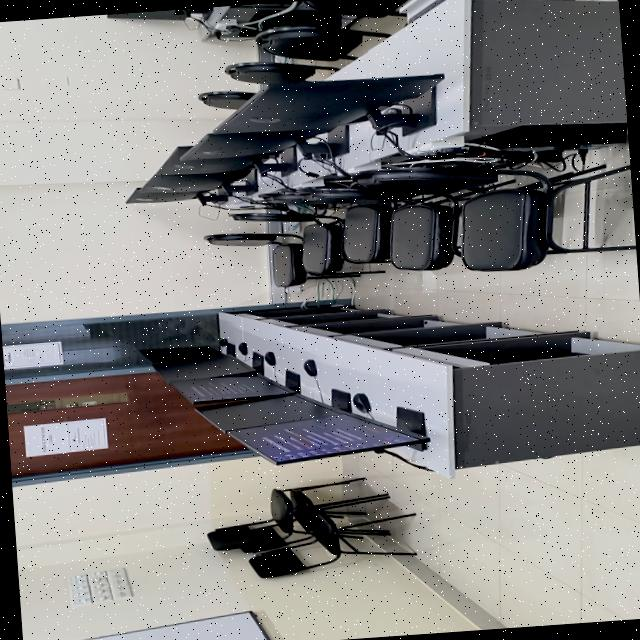Chair: (349, 164, 636, 271), (261, 187, 455, 271), (247, 493, 415, 578), (206, 479, 360, 553), (203, 233, 361, 288), (228, 211, 341, 274), (254, 27, 389, 61), (341, 203, 391, 264), (224, 61, 336, 84), (301, 0, 407, 17), (197, 91, 253, 109)
Monitor: (212, 74, 442, 134), (228, 415, 428, 463), (196, 393, 344, 433), (152, 349, 252, 401), (181, 128, 330, 160), (171, 374, 291, 403), (155, 146, 260, 175), (144, 170, 248, 192), (137, 346, 220, 365), (125, 187, 198, 203)
Mouse: (352, 393, 369, 413), (302, 359, 316, 376), (262, 352, 274, 366), (237, 342, 246, 355), (218, 339, 226, 346)
